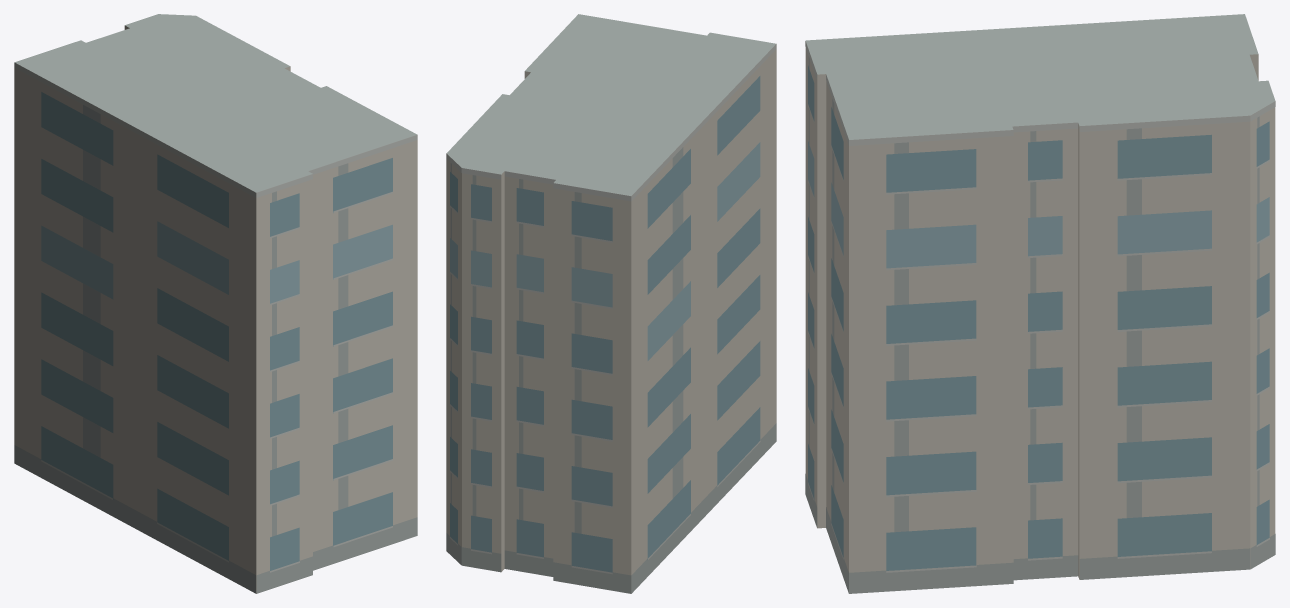
Rendered from survey-upis-32705932.glb.
3 views of the same model, side by side, from view 1: azimuth 30°, elevation 25°; view 2: azimuth 150°, elevation 25°; view 3: azimuth 270°, elevation 25° (orthographic). The views are drawn at different scales.
Visible parts, largest first — view 1: survey-upis-32705932.tmp; view 2: survey-upis-32705932.tmp; view 3: survey-upis-32705932.tmp.
Part boxes in pixels (<box>): survey-upis-32705932.tmp: <box>14,14,417,593</box>; survey-upis-32705932.tmp: <box>446,14,776,593</box>; survey-upis-32705932.tmp: <box>805,14,1275,593</box>.
Size of the model in its own units: 11.03 by 18.5 by 17.38.
